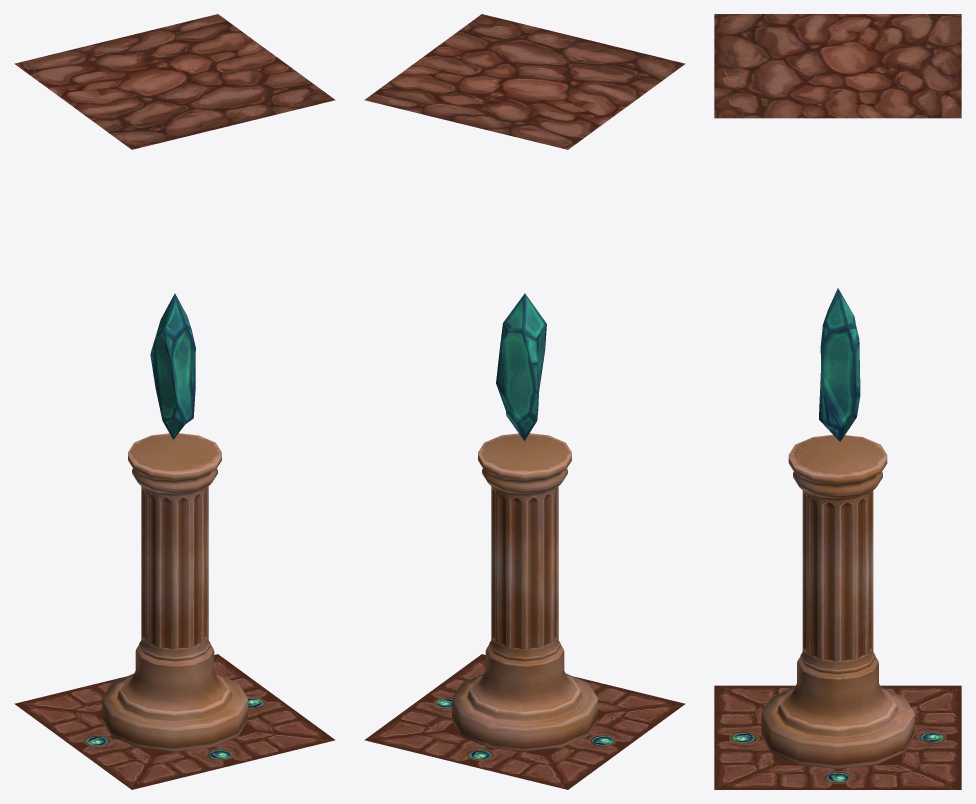
Rendered from 0-Column Trigger.obj.
The picture shows the model from 3 angles, left to right: view 1: azimuth 30°, elevation 25°; view 2: azimuth 150°, elevation 25°; view 3: azimuth 270°, elevation 25°; orthographic projection. The views are drawn at different scales.
Parts seen in each view (by area): view 1: trap_floor_tile:pCube2; view 2: trap_floor_tile:pCube2; view 3: trap_floor_tile:pCube2.
Boxes of the visible parts, bbox=[...] form: trap_floor_tile:pCube2: bbox=[14, 14, 335, 789]; trap_floor_tile:pCube2: bbox=[364, 14, 685, 789]; trap_floor_tile:pCube2: bbox=[714, 14, 961, 789].
Bounding box in the file's own units: 2 × 6 × 2.
Materials: 3 (3 with a texture image).
